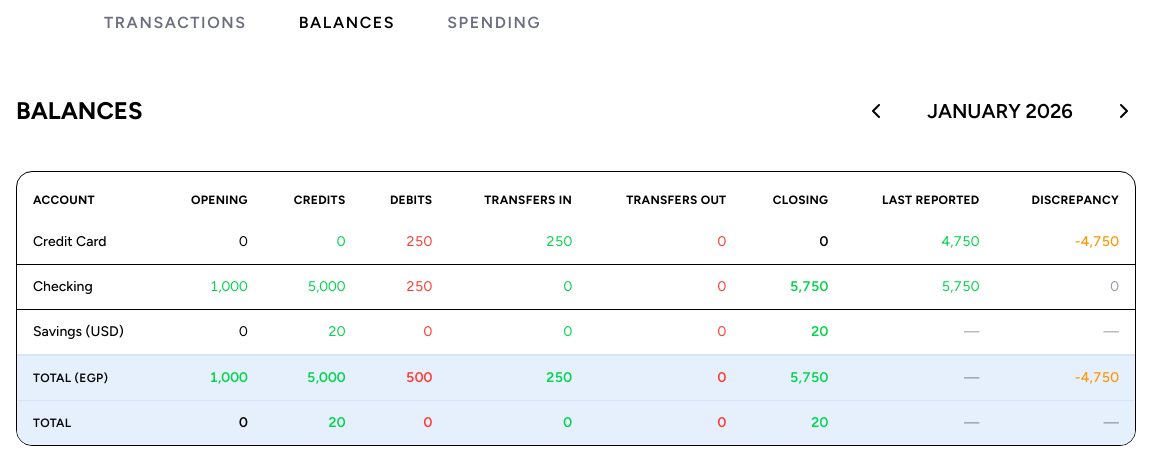
Test: Balances page › moves between months
Expected: the table is shown, [17,172,1135,445]
What coordinates should you click on to do the following:
click the button named "Next month"
I would click on:
 (1124, 111)
Its box is [1112,99,1136,123].
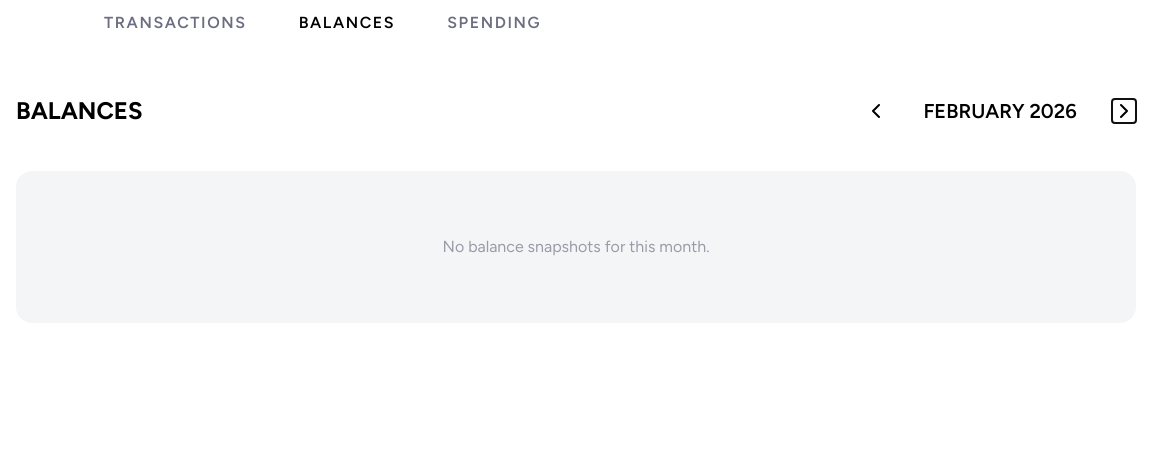
Expected: the text "No balance snapshots for this month." is shown, [16,171,1136,323]
